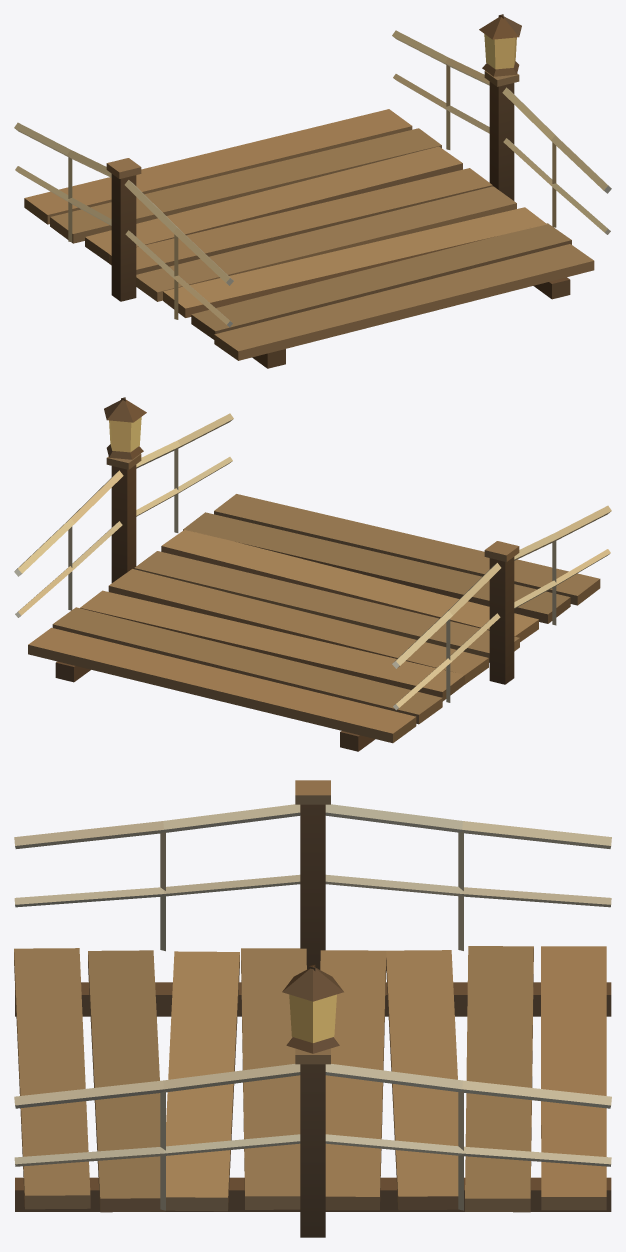
File: bridge_plank_segment.glb
3 views of the same model, one above another, from view 1: azimuth 30°, elevation 25°; view 2: azimuth 150°, elevation 25°; view 3: azimuth 270°, elevation 25° (orthographic). The views are drawn at different scales.
Visible parts, largest first — view 1: bridge_plank_segment; view 2: bridge_plank_segment; view 3: bridge_plank_segment.
Part boxes in pixels (left/top/right/bottom): bridge_plank_segment: left=14, top=14, right=611, bottom=368; bridge_plank_segment: left=14, top=397, right=611, bottom=751; bridge_plank_segment: left=14, top=780, right=611, bottom=1237.
Bounding box in the file's own units: 4.46 × 2.01 × 4.01.
